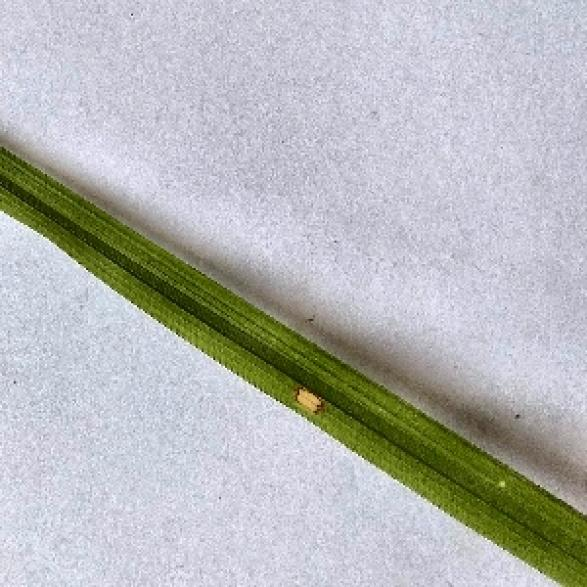Leaf_smut: (249, 374, 356, 411)
